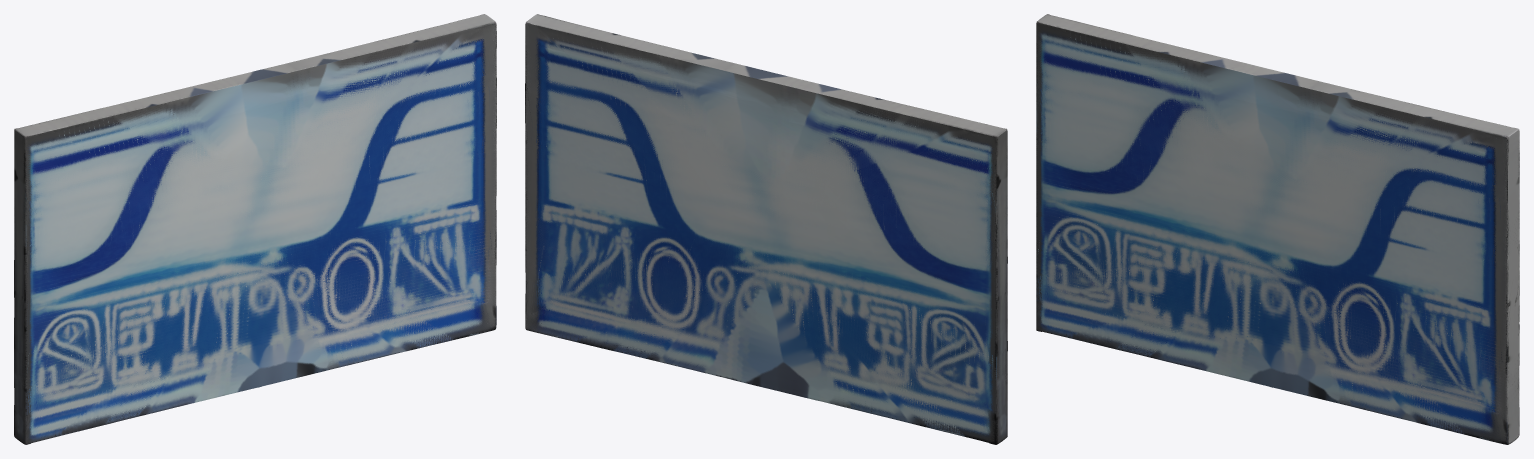
3 renders of one model, left to right at view 1: azimuth 30°, elevation 25°; view 2: azimuth 150°, elevation 25°; view 3: azimuth 330°, elevation 25°, orthographic.
Visible parts, largest first — view 1: world.002; view 2: world.002; view 3: world.002.
Part boxes in pixels (box(x1,y1,x2,y2)): world.002: box(14, 14, 496, 444); world.002: box(525, 14, 1007, 444); world.002: box(1036, 14, 1519, 444).
Bounding box in the file's own units: 100 × 62.63 × 4.6.
Materials: 1 (1 with a texture image).
